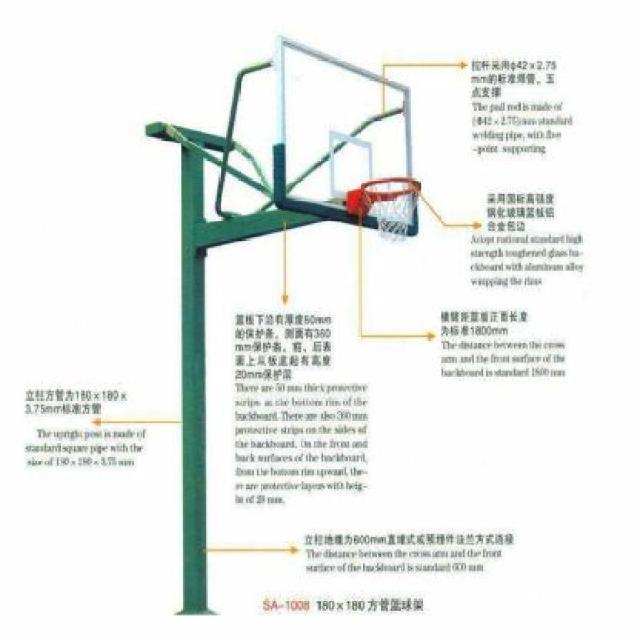rim: (360, 178, 422, 246)
